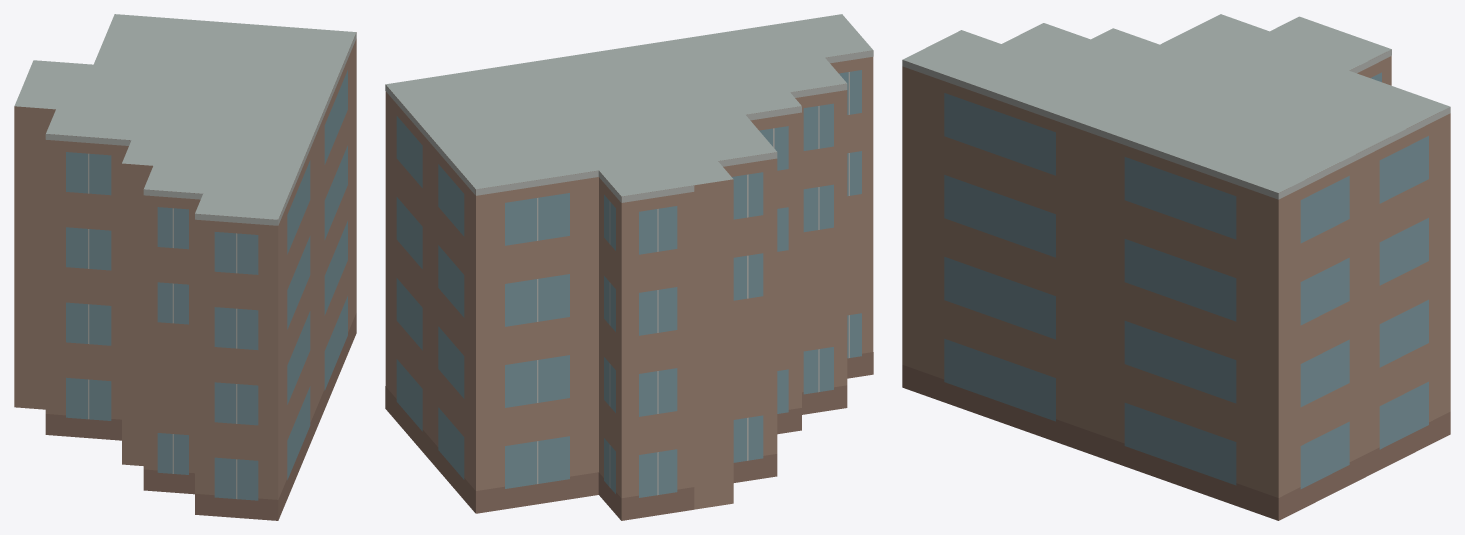
Rendered from residential-b9772920-3b81-4641-b512-5ce7cbaf251c.glb.
3 renders of one model, left to right at view 1: azimuth 30°, elevation 25°; view 2: azimuth 150°, elevation 25°; view 3: azimuth 270°, elevation 25°, orthographic. The views are drawn at different scales.
Visible parts, largest first — view 1: residential-b9772920-3b81-4641-b512-5ce7cbaf251c.tmp; view 2: residential-b9772920-3b81-4641-b512-5ce7cbaf251c.tmp; view 3: residential-b9772920-3b81-4641-b512-5ce7cbaf251c.tmp.
Boxes of the visible parts, left/top/right/bottom form: residential-b9772920-3b81-4641-b512-5ce7cbaf251c.tmp: left=14, top=14, right=356, bottom=520; residential-b9772920-3b81-4641-b512-5ce7cbaf251c.tmp: left=385, top=14, right=873, bottom=520; residential-b9772920-3b81-4641-b512-5ce7cbaf251c.tmp: left=902, top=14, right=1450, bottom=520.
Size of the model in its own units: 14.31 by 12.2 by 18.5.
